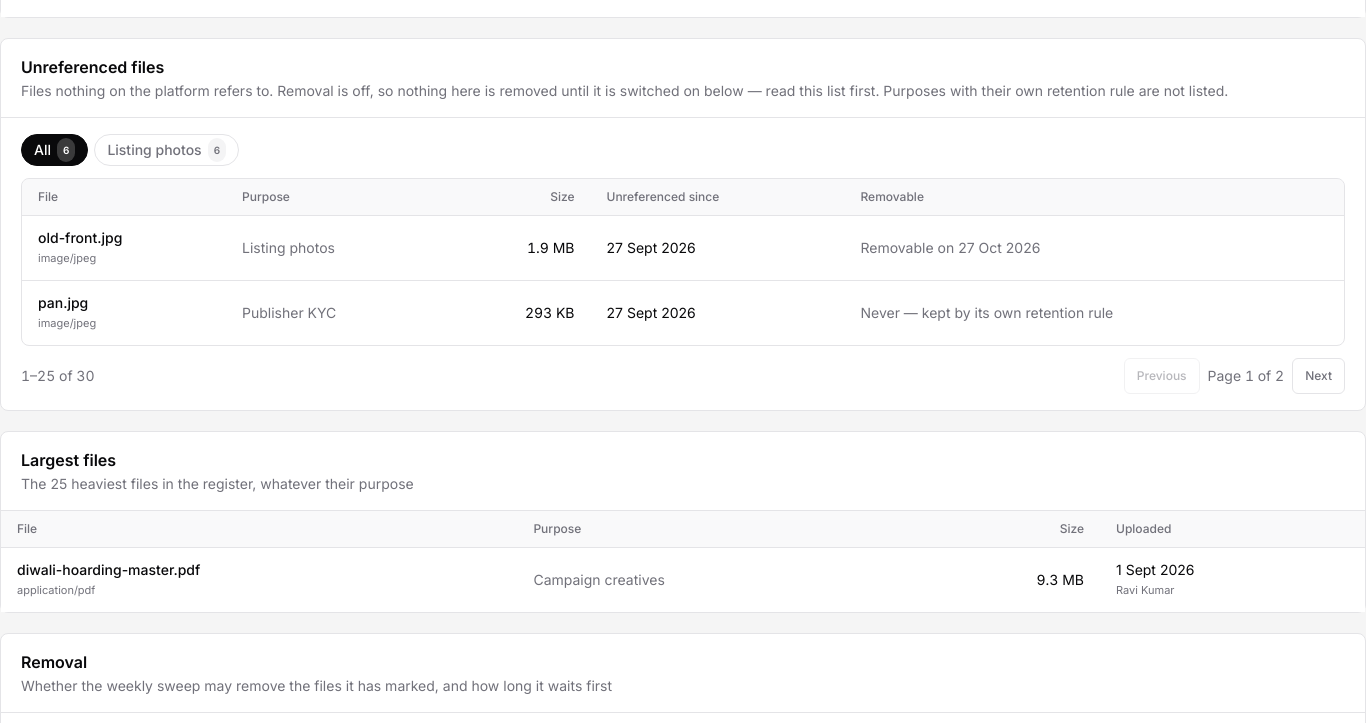
Test: Settings › Storage — the report › lists the unreferenced files paged, with the day each becomes removable, and filters by purpose
(page scrolled)
Expected: the link "old-front.jpg" is shown, [38, 229, 122, 246]
Expected: the text with test id "storage-removable-f_front" reads "Removable on 27 Oct 2026", [860, 239, 1040, 256]
Click the button "Next" at (1319, 376), box [1292, 358, 1345, 394]
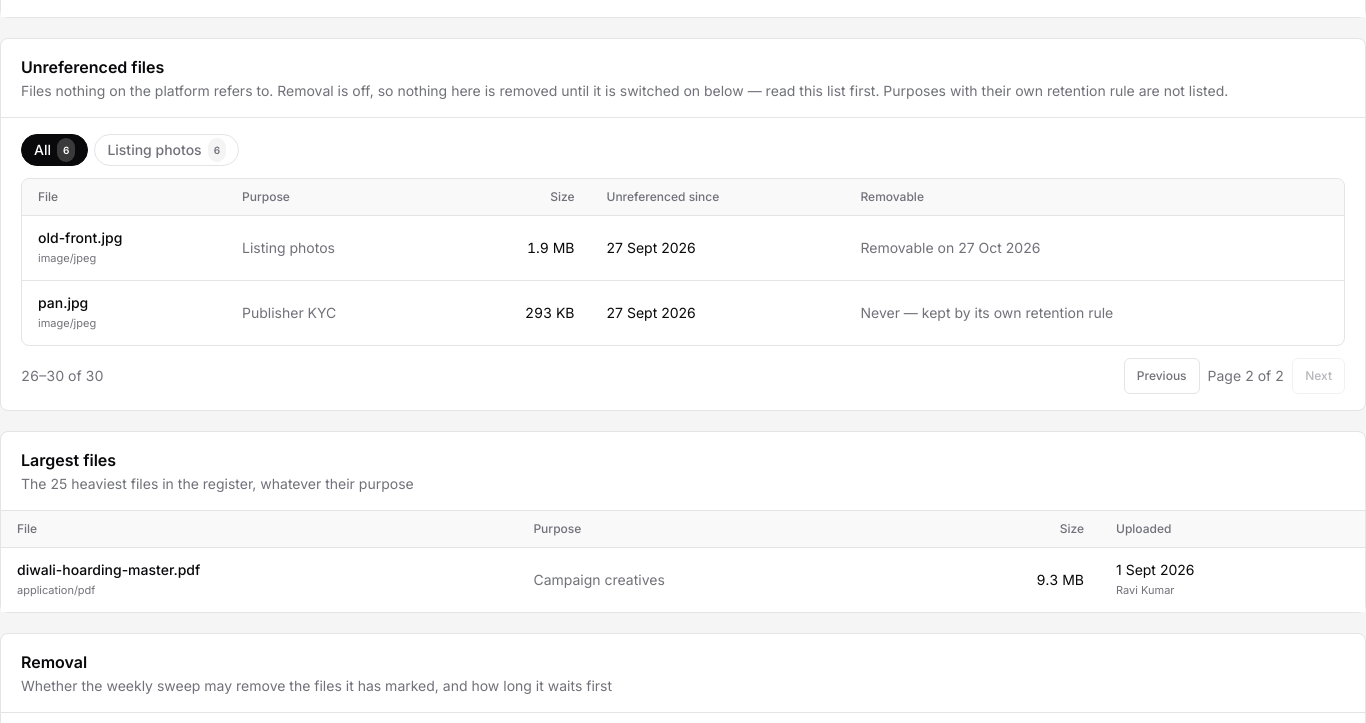
Expected: the tab "All 6" is shown, [21, 134, 88, 166]
Click the tab "Listing photos 6" at (167, 150), box [94, 134, 239, 166]
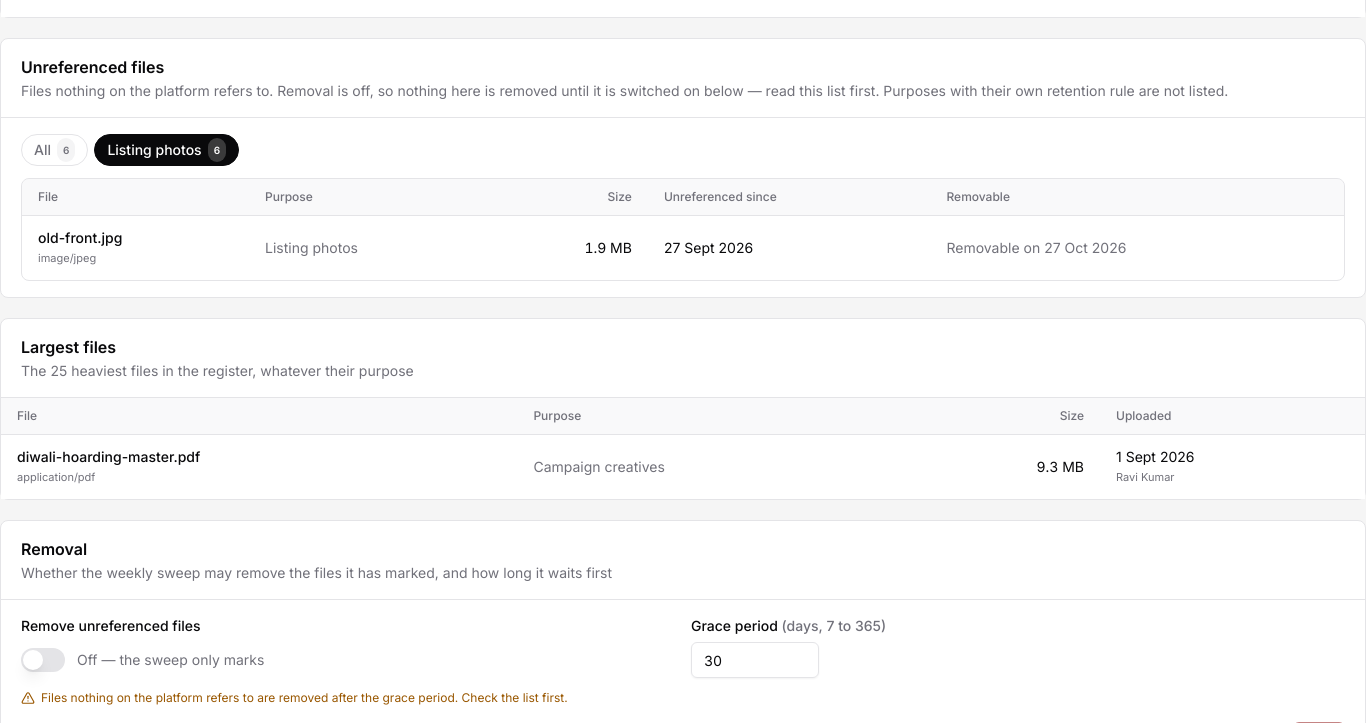
Result: the link "pan.jpg" is gone
